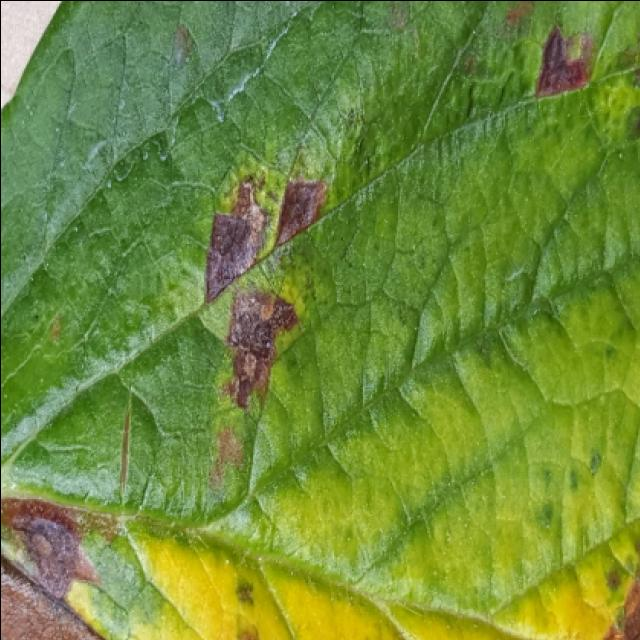Angular Leafspot: (0, 2, 638, 640), (581, 525, 638, 640)
